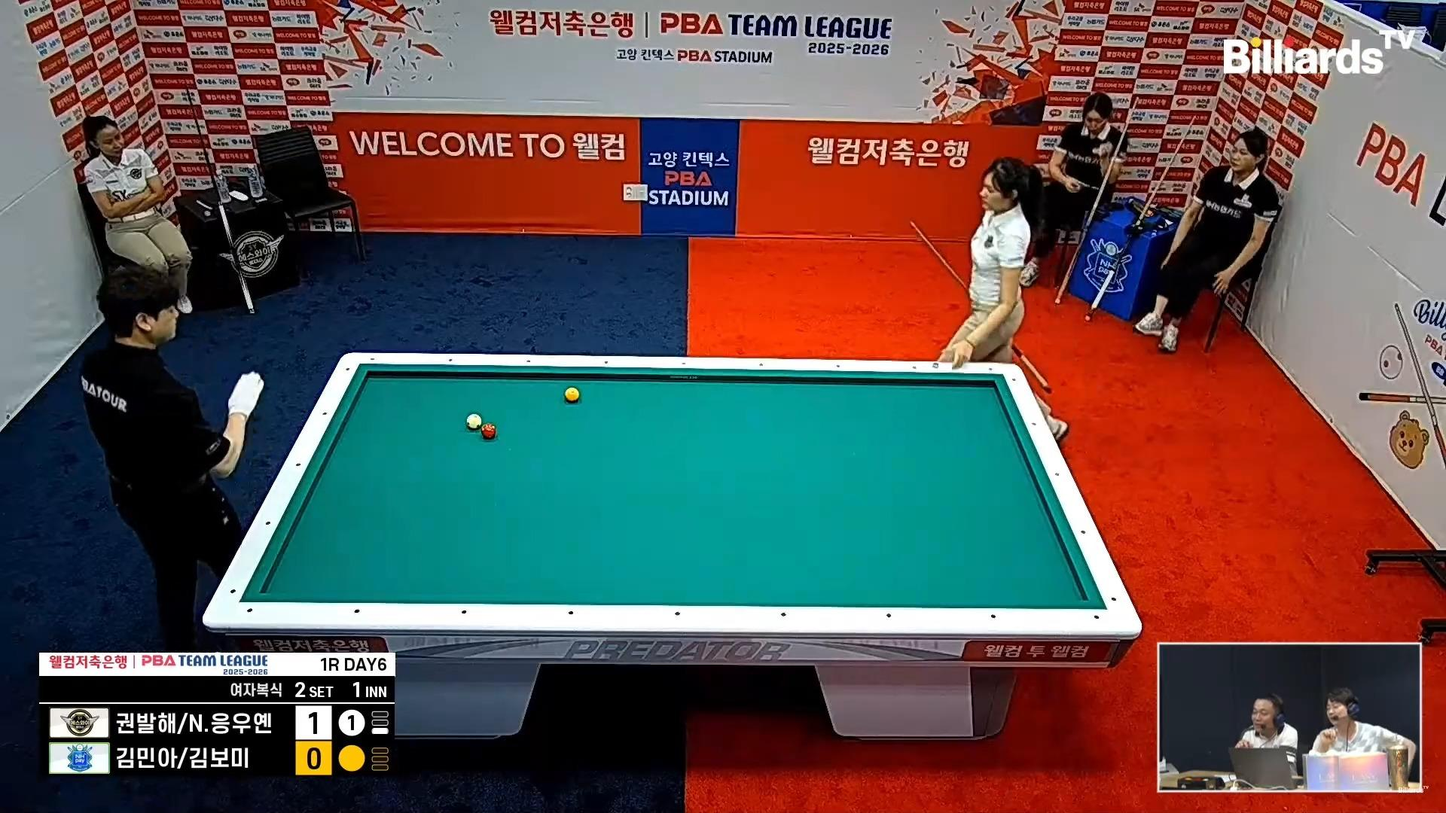billiard-ball-Red: (483, 425, 496, 438)
billiard-ball-Yellow: (563, 386, 580, 403)
billiard-ball-white: (465, 412, 482, 431)
